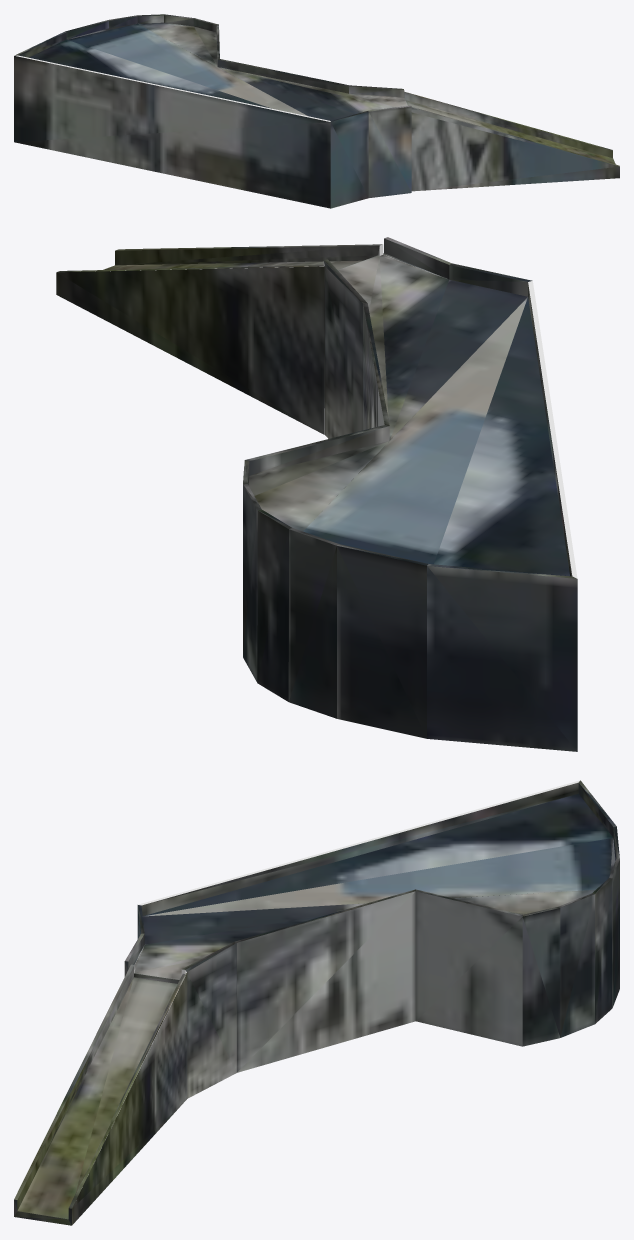
File: bridge_-1_-4.glb
3 views of the same model, one above another, from view 1: azimuth 30°, elevation 25°; view 2: azimuth 150°, elevation 25°; view 3: azimuth 270°, elevation 25° (orthographic). The views are drawn at different scales.
Size of the model in its own units: 61.1 by 11.76 by 49.62.
2 materials, 1 textured.
